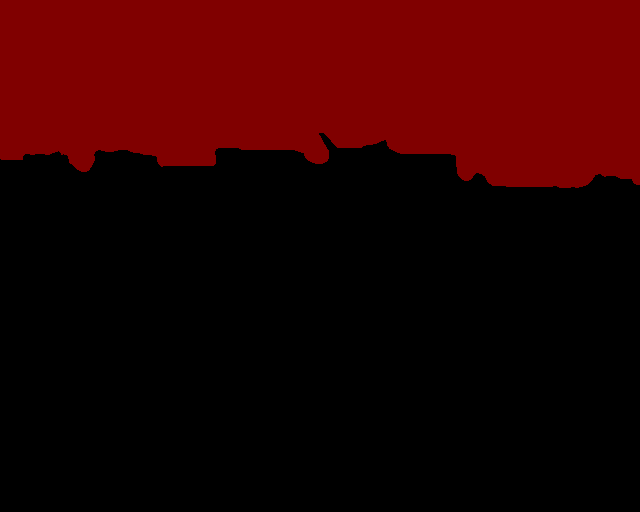Sky: (1, 1, 639, 188)
